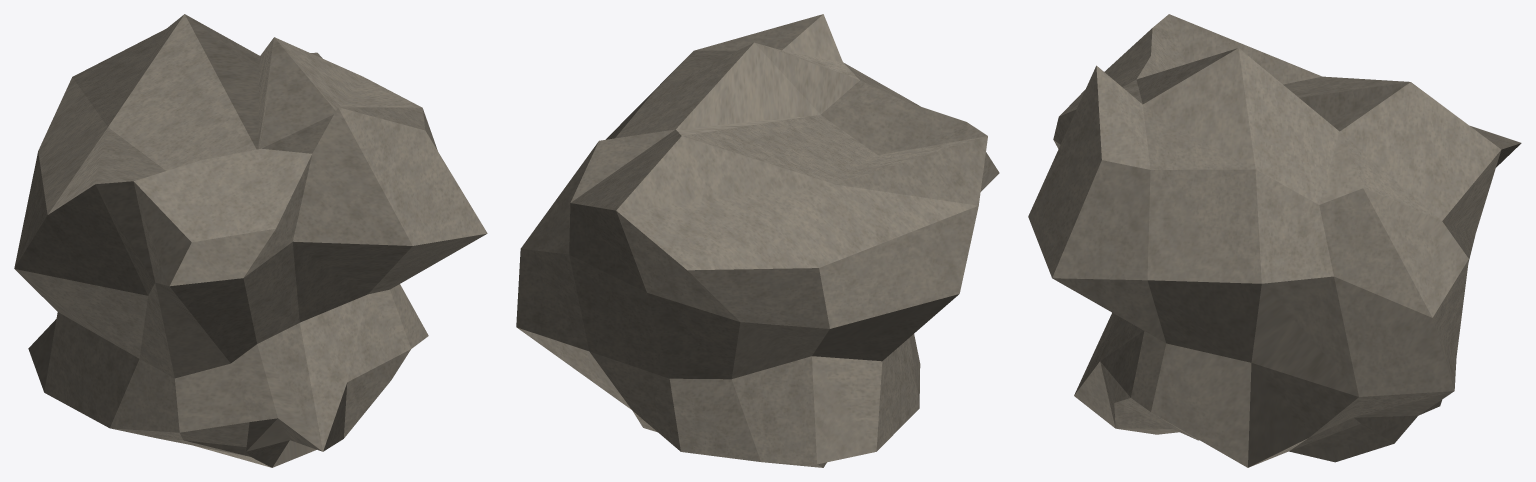
Rendered from Pedra_2_Clara.fbx.
The picture shows the model from 3 angles, left to right: view 1: azimuth 30°, elevation 25°; view 2: azimuth 150°, elevation 25°; view 3: azimuth 270°, elevation 25°; orthographic projection. The views are drawn at different scales.
Visible parts, largest first — view 1: Pedra_2; view 2: Pedra_2; view 3: Pedra_2.
Part boxes in pixels (<box>): Pedra_2: <box>14,14,487,467</box>; Pedra_2: <box>516,14,999,467</box>; Pedra_2: <box>1028,14,1521,467</box>.
Bounding box in the file's own units: 189 × 178 × 195.
Materials: 1 (1 with a texture image).
